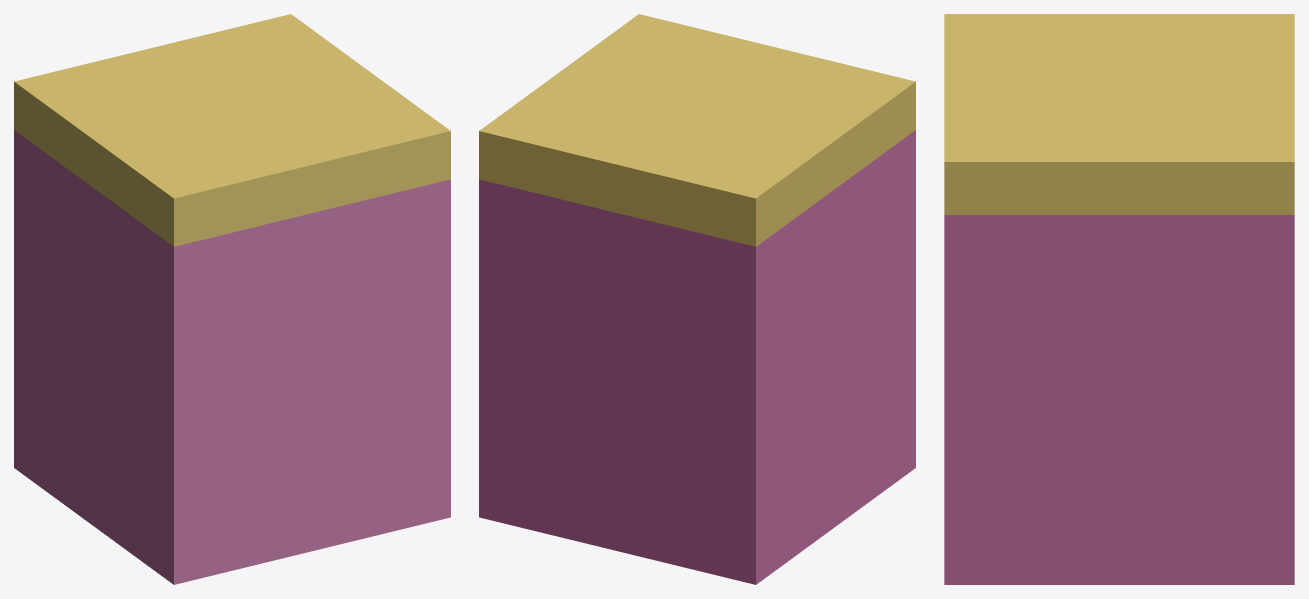
File: squidgame_props_platform2_pink.fbx
The picture shows the model from 3 angles, left to right: view 1: azimuth 30°, elevation 25°; view 2: azimuth 150°, elevation 25°; view 3: azimuth 270°, elevation 25°; orthographic projection. The views are drawn at different scales.
Parts seen in each view (by area): view 1: squidgame_props_platform2_pink; view 2: squidgame_props_platform2_pink; view 3: squidgame_props_platform2_pink.
Boxes of the visible parts, left/top/right/bottom form: squidgame_props_platform2_pink: left=14, top=14, right=450, bottom=584; squidgame_props_platform2_pink: left=479, top=14, right=915, bottom=584; squidgame_props_platform2_pink: left=944, top=14, right=1294, bottom=584.
Bounding box in the file's own units: 1.5 × 2 × 1.5.
